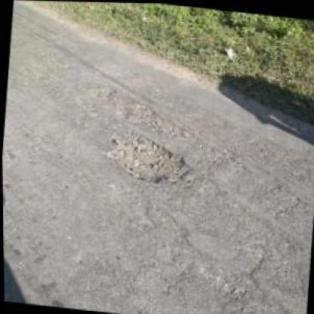Hueco: (100, 128, 198, 187), (116, 97, 190, 139), (87, 81, 116, 102)
